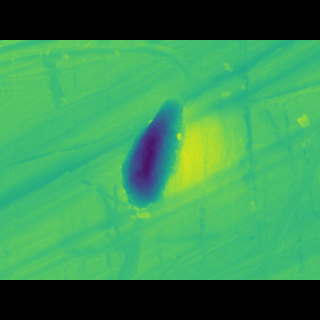Loch: (192, 76, 319, 197), (113, 111, 189, 206)
